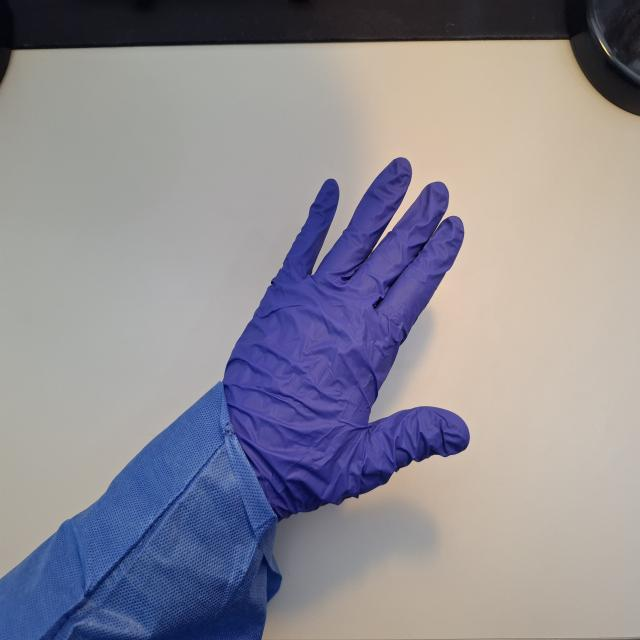glove_on: (218, 154, 473, 525)
